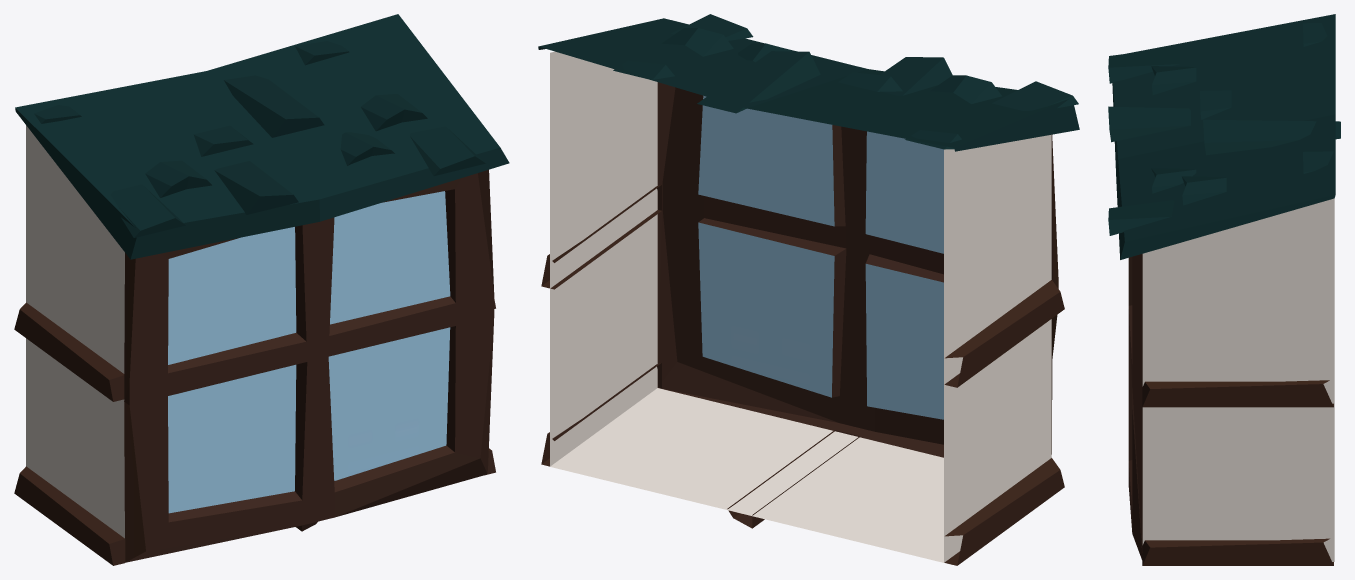
File: SM_L_Modular_Popup_Square_window1.fbx
The picture shows the model from 3 angles, left to right: view 1: azimuth 30°, elevation 25°; view 2: azimuth 150°, elevation 25°; view 3: azimuth 270°, elevation 25°; orthographic projection. The views are drawn at different scales.
Parts seen in each view (by area): view 1: SM_Pop_Up_Square_Window; view 2: SM_Pop_Up_Square_Window; view 3: SM_Pop_Up_Square_Window.
Boxes of the visible parts, left/top/right/bottom form: SM_Pop_Up_Square_Window: left=14, top=14, right=509, bottom=565; SM_Pop_Up_Square_Window: left=538, top=14, right=1079, bottom=565; SM_Pop_Up_Square_Window: left=1108, top=14, right=1340, bottom=565.
Size of the model in its own units: 103 by 102 by 55.89.
